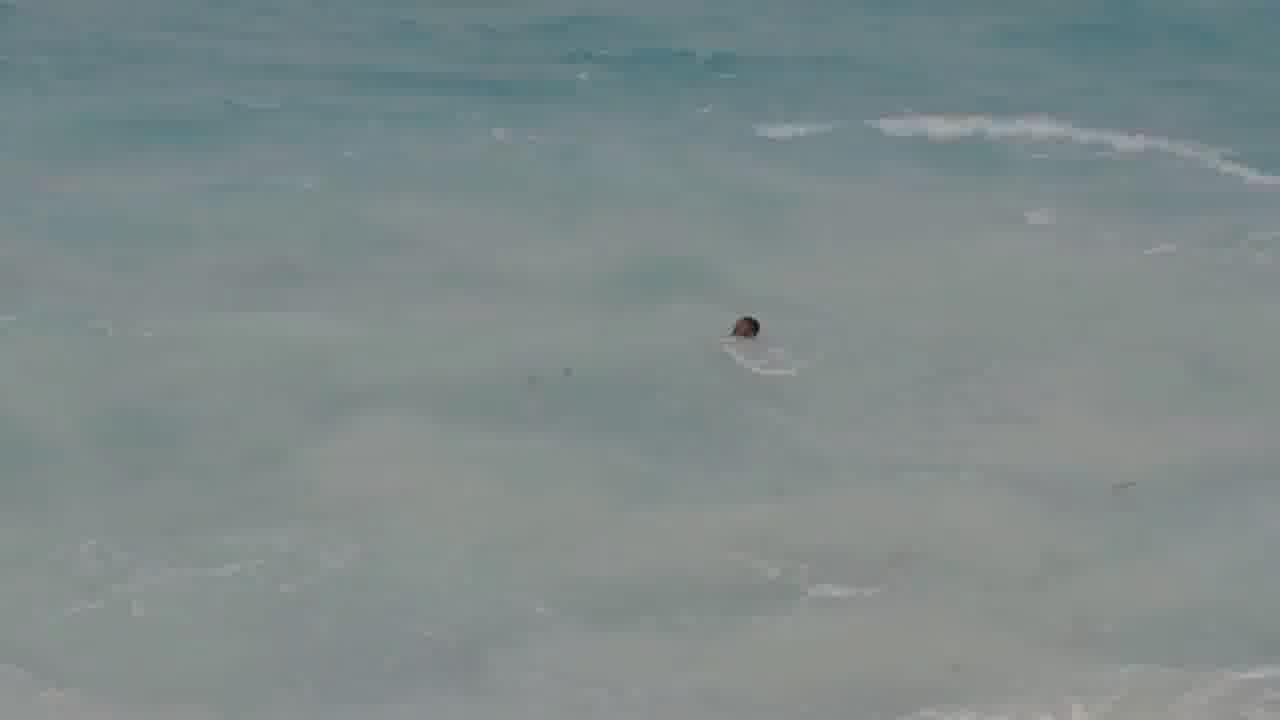human: (719, 303, 782, 370)
